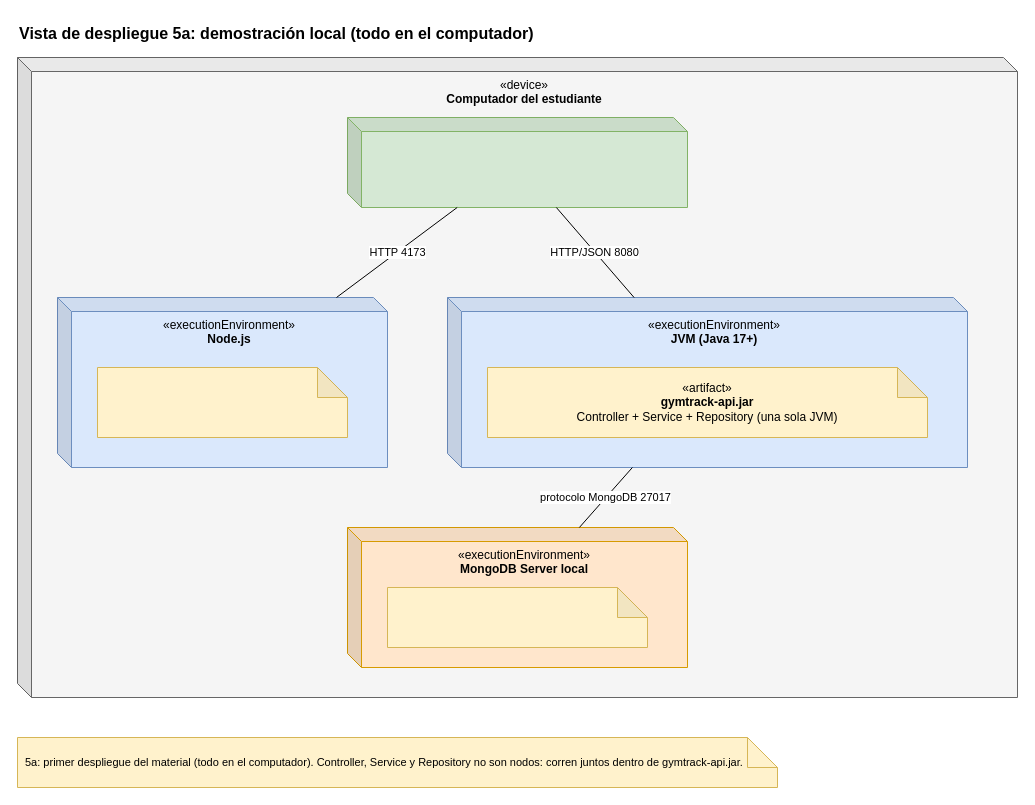
This 1035x805 diagram has some shape labels left out. The shapes that lost their labels are listed below. From the top down, each one's centre as x and y in pixels, then its label:
At point 517,162: "«executionEnvironment» Navegador".
At point 222,402: "«artifact» gymtrack-web SPA, vite preview".
At point 517,617: "«artifact» base de datos gymtrack".
